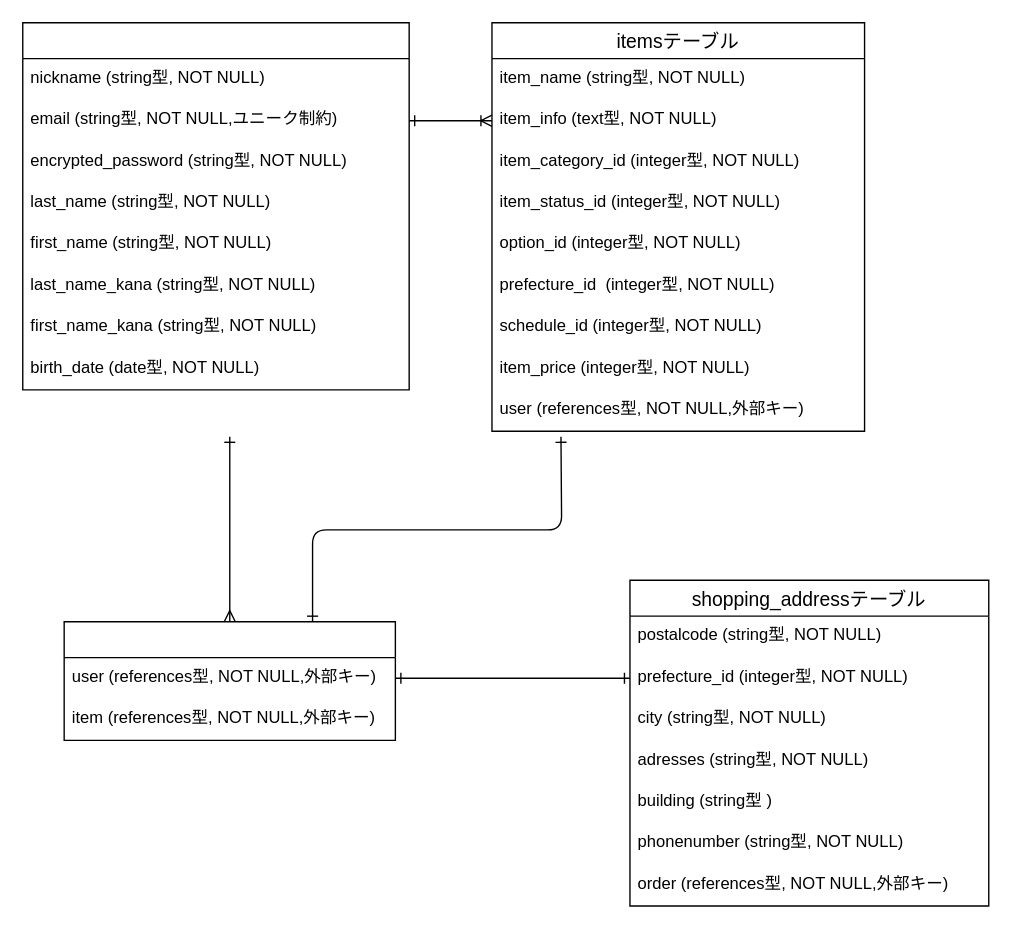
Image size: 1012x929. Some labels were removed from this diagram. Here are the shapes that lost their labels. From the top down, the box of each, then its label:
(21, 21, 409, 390): usersテーブル
(63, 620, 395, 740): ordersテーブル
